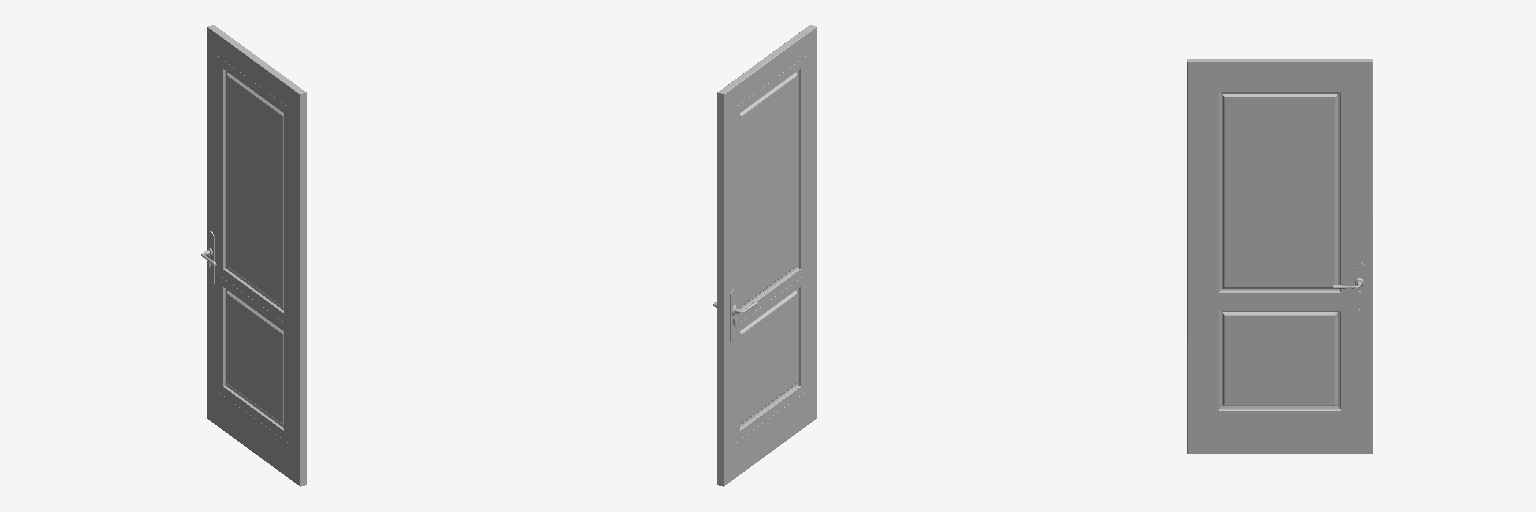
Rendered from Vintage-Door_reverse.obj.
3 renders of one model, left to right at view 1: azimuth 30°, elevation 25°; view 2: azimuth 150°, elevation 25°; view 3: azimuth 270°, elevation 25°, orthographic.
Parts seen in each view (by area): view 1: Door_Sheet001; view 2: Door_Sheet001; view 3: Door_Sheet001, Handle001.
Part boxes in pixels (x1,y1,x2,y2): Door_Sheet001: (207, 25, 306, 486); Door_Sheet001: (717, 25, 816, 486); Door_Sheet001: (1187, 59, 1372, 453); Handle001: (1332, 262, 1364, 314).
Bounding box in the file's own units: 7.52 × 85.89 × 36.74.